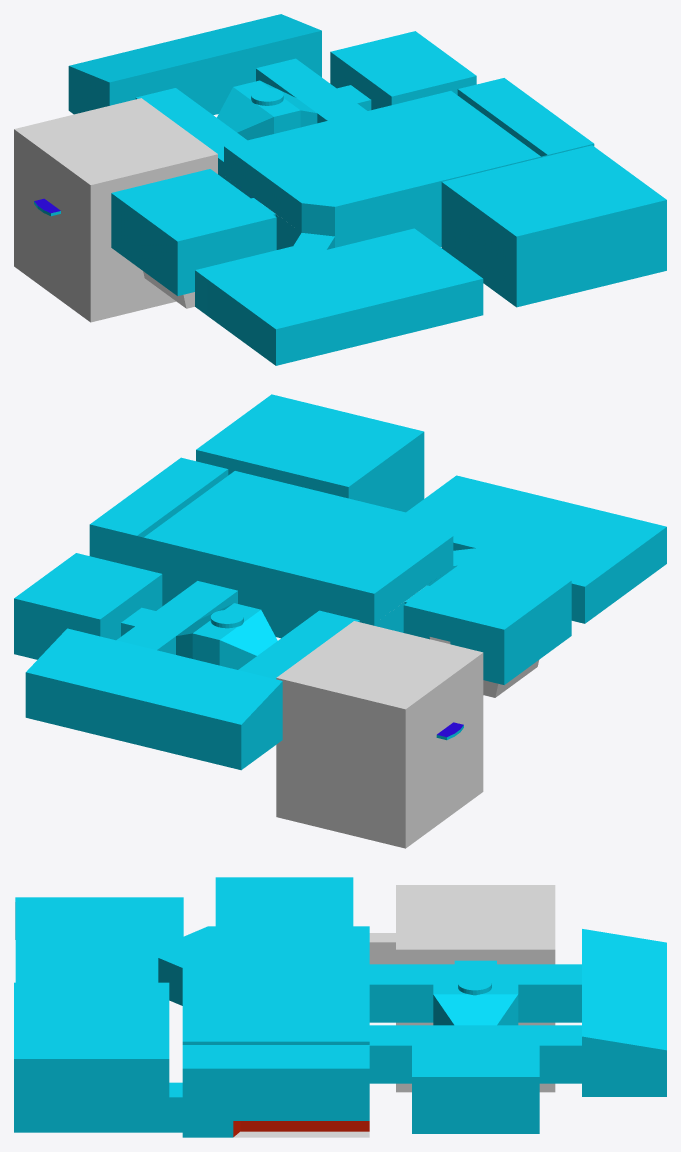
File: ship.glb
3 renders of one model, top to bottom at view 1: azimuth 30°, elevation 25°; view 2: azimuth 150°, elevation 25°; view 3: azimuth 270°, elevation 25°, orthographic. The views are drawn at different scales.
Visible parts, largest first — view 1: Cylinder; view 2: Cylinder; view 3: Cylinder.
Part boxes in pixels (x1,y1,x2,y2): Cylinder: (14,14,666,365); Cylinder: (14,394,666,848); Cylinder: (14,877,666,1137).
Size of the model in its own units: 29.17 by 10.89 by 38.41.
